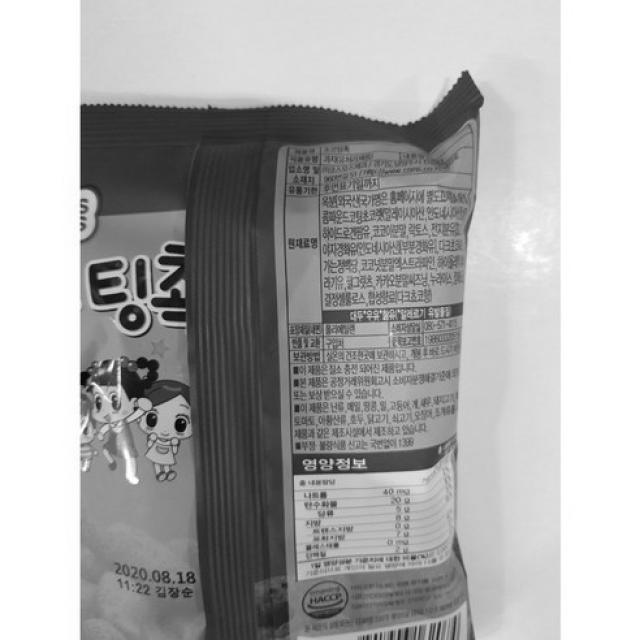Nutrition Label: (286, 428, 469, 590)
